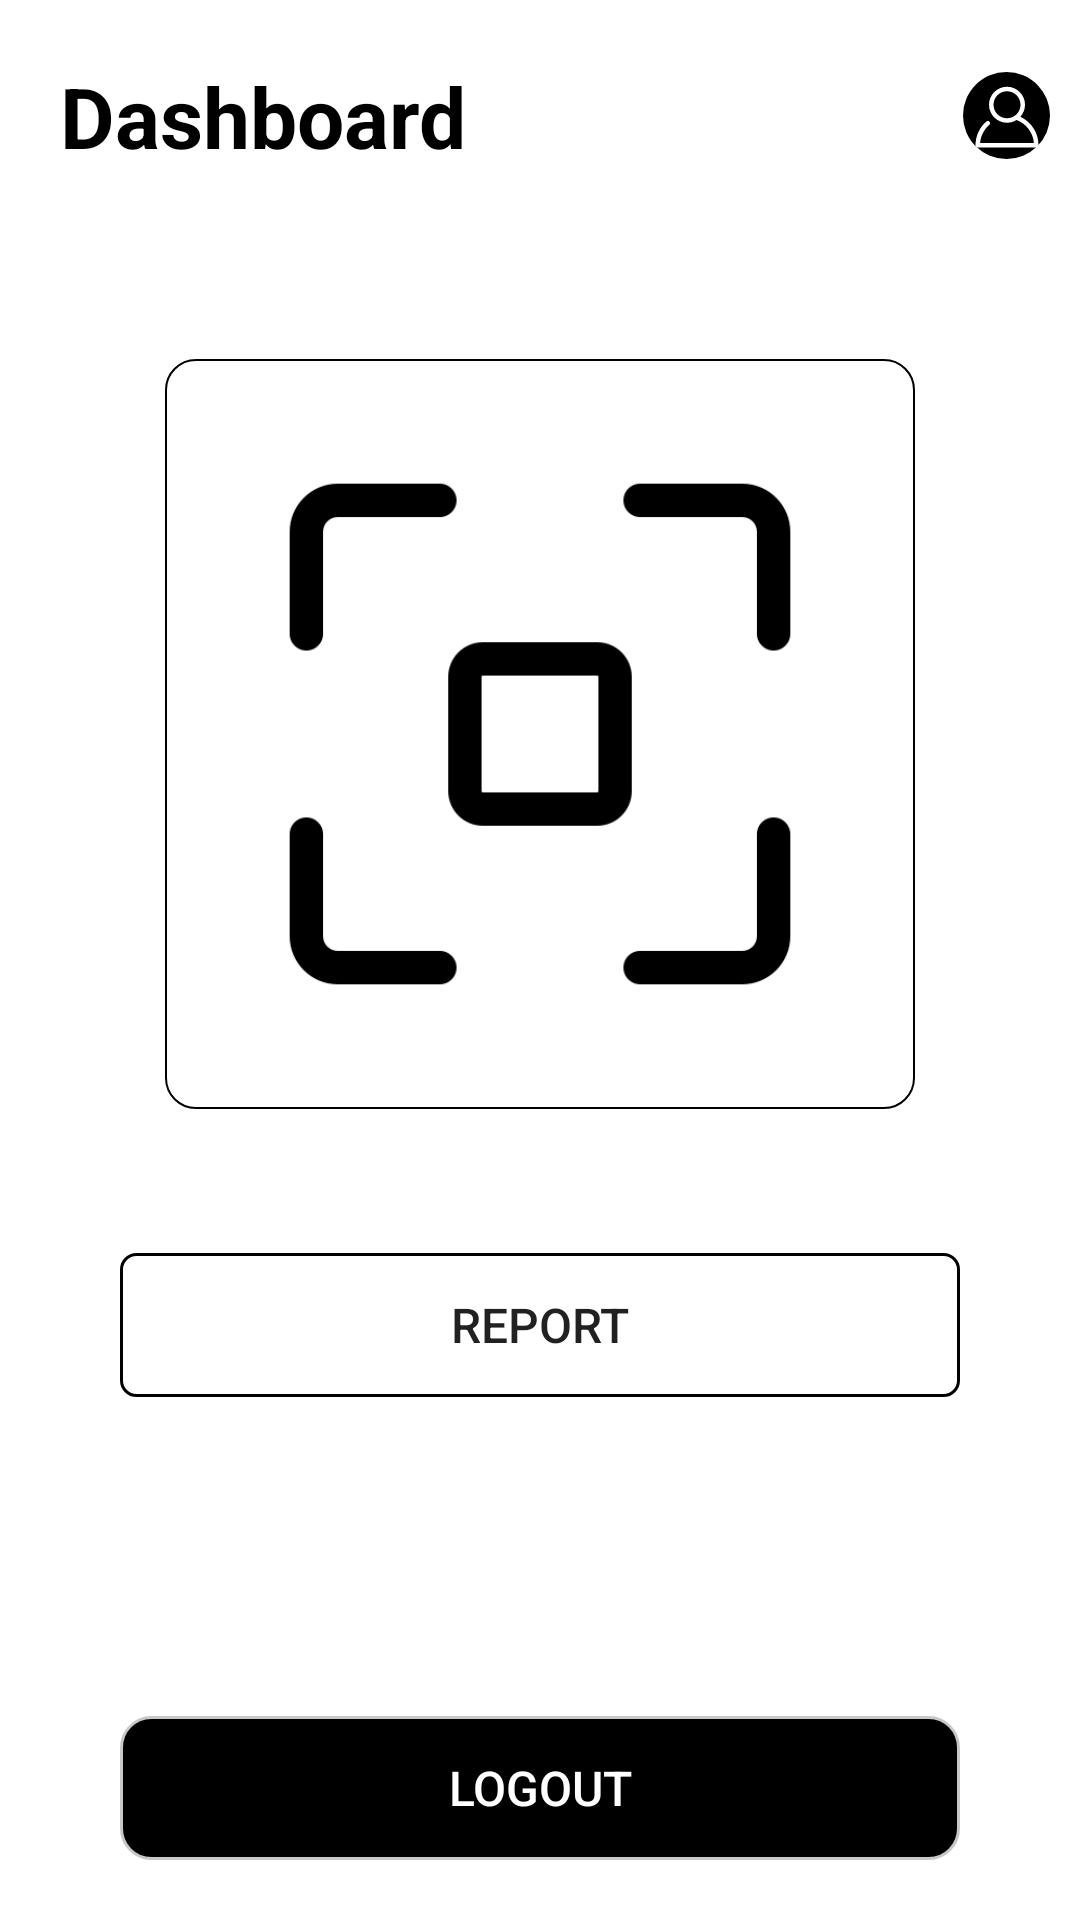

Icon bounding boxes for this 1080w x 1920h phone screenshot, format (x1, y1, x2, y2):
username: (963, 72, 1050, 159)
